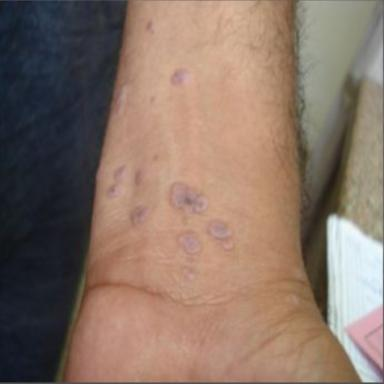lichen: (170, 183, 209, 213), (107, 165, 127, 197), (179, 233, 199, 254), (209, 221, 231, 240), (171, 69, 193, 86), (131, 205, 150, 223), (135, 168, 143, 185)
